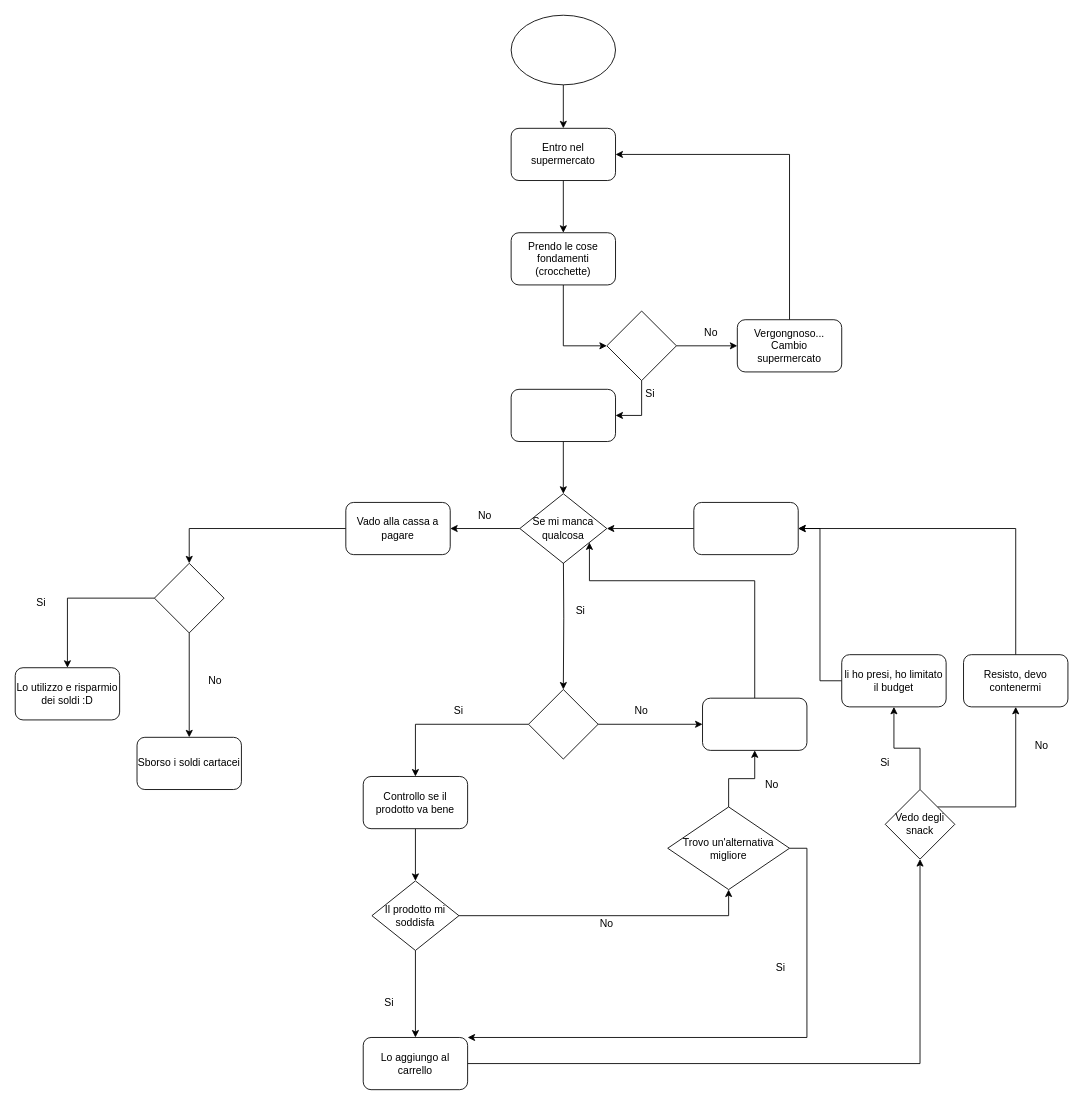
Image size: 1083x1105. Some labels were removed from this diagram. Each missing label, with the centre of its shape:
[Inizio] Controllo la lista: the point at 563,49
Controllo che io sia ancora nel budget: the point at 745,528
Lo cancello dalla lista: the point at 754,723
Proseguo con la spesa: the point at 563,415
Se il coupon è valido: the point at 189,597
Trovate?: the point at 641,345
trovo il prodotto: the point at 563,724
